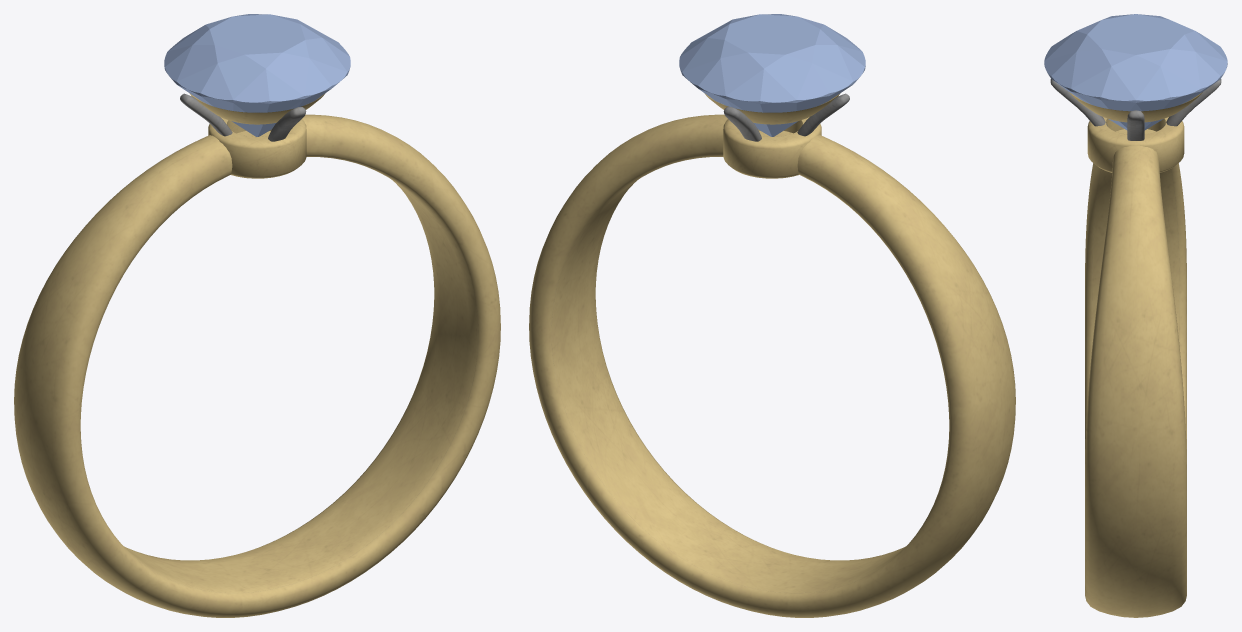
Rendered from kosue4554-ring-4772.glb.
The picture shows the model from 3 angles, left to right: view 1: azimuth 30°, elevation 25°; view 2: azimuth 150°, elevation 25°; view 3: azimuth 270°, elevation 25°; orthographic projection.
Visible parts, largest first — view 1: Ring; view 2: Ring; view 3: Ring.
Boxes of the visible parts, box(x1,y1,x2,y2) form: Ring: box(14, 14, 500, 617); Ring: box(529, 14, 1015, 617); Ring: box(1044, 14, 1227, 617).
Size of the model in its own units: 0.03 by 0.0355 by 0.0105.
Materials: 1 (1 with a texture image).
